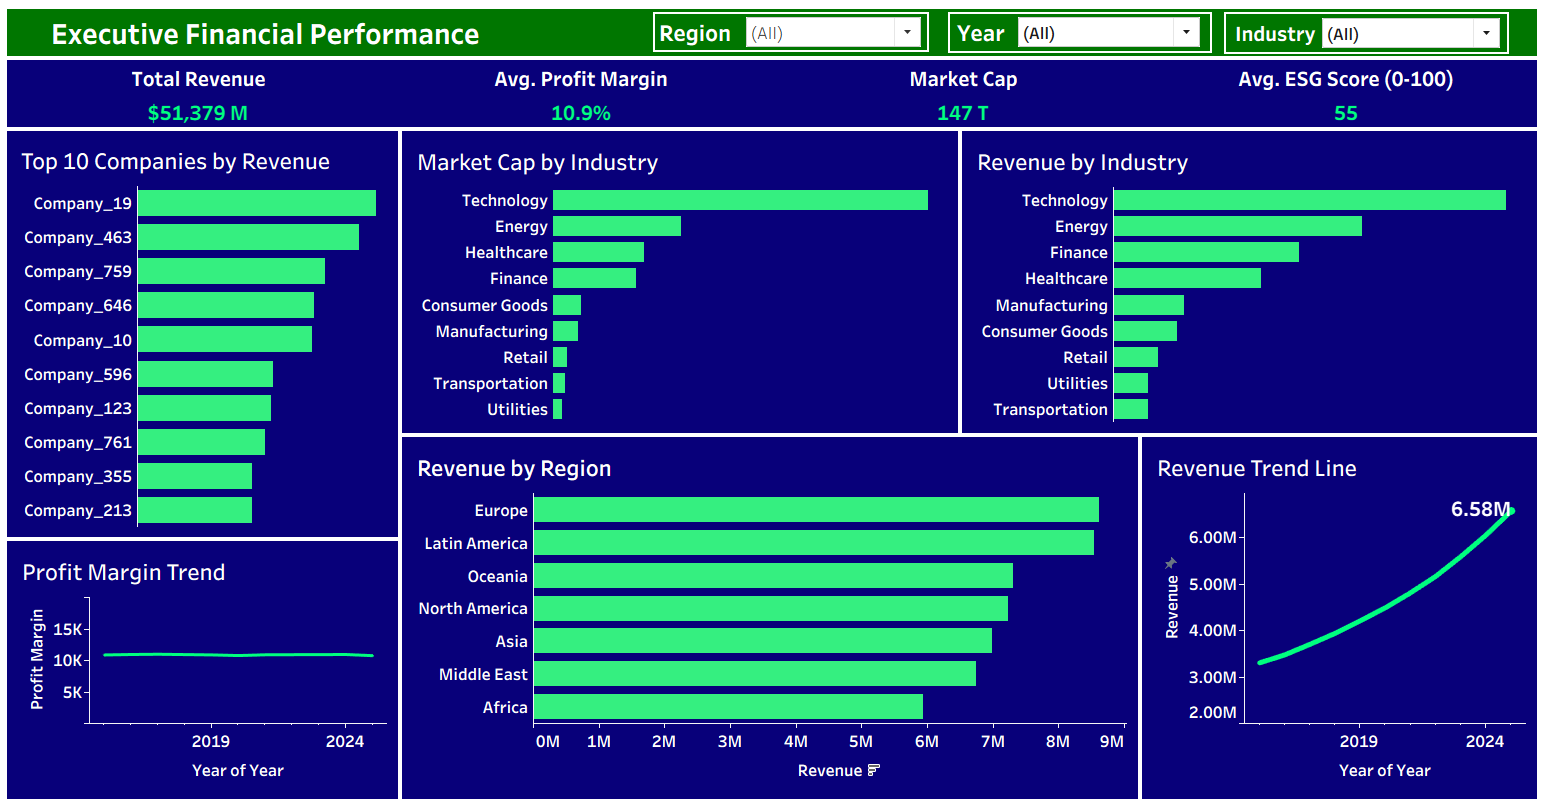

The page's visual inventory and layout, read from the dashboard file:
{"tool":"tableau","page":{"name":"Executive Financial Performance","canvas":[1000,1000],"units":"permille","ordinal":1},"visuals":[{"type":"text","box":[5.2,9.9,989.7,63.6]},{"type":"blank","box":[423.2,16.1,178.1,49.4]},{"type":"blank","box":[613.6,16.1,170.3,50.6]},{"type":"blank","box":[791.6,16.1,183.9,51.9]},{"type":"filter","title":"Market Cap by Industry","param":"[federated.1uj29181kbbx6w15t49ys11m4g1m].[none:Region:nk]","box":[481.3,19.8,116.8,43.2]},{"type":"filter","title":"Top 10 Companies by Revenue","param":"[federated.1uj29181kbbx6w15t49ys11m4g1m].[yr:Year:ok]","box":[656.8,21,121.3,40.7]},{"type":"filter","title":"Top 10 Companies by Revenue","param":"[federated.1uj29181kbbx6w15t49ys11m4g1m].[none:Industry:nk]","box":[852.9,21,118.7,43.2]},{"type":"text","box":[424.5,22.2,52.9,37]},{"type":"text","box":[616.8,22.2,39.4,37]},{"type":"text","box":[796.1,23.5,56.8,37]},{"type":"worksheet","title":"KPIs","mark":"Automatic","box":[5.2,73.4,989.7,87]},{"type":"worksheet","title":"Top 10 Companies by Revenue","mark":"Automatic","rows":["CompanyName"],"cols":["Revenue"],"box":[5.2,160.5,254.8,506.2]},{"type":"worksheet","title":"Market Cap by Industry","mark":"Automatic","rows":["Industry"],"cols":["MarketCap"],"box":[259.9,160.5,361.3,377.8]},{"type":"worksheet","title":"Revenue by Industry","mark":"Automatic","rows":["Industry"],"cols":["Revenue"],"box":[621.2,160.5,373.6,377.8]},{"type":"worksheet","title":"Revenue by Region","mark":"Automatic","rows":["Region"],"cols":["Revenue"],"box":[259.9,538.2,477.5,451.9]},{"type":"worksheet","title":"Revenue Trend Line","mark":"Line","rows":["Revenue"],"cols":["Year"],"box":[737.4,538.2,257.4,451.9]},{"type":"worksheet","title":"Profit Margin Trend","mark":"Automatic","rows":["ProfitMargin"],"cols":["Year"],"box":[5.2,666.7,254.8,323.5]}]}

Visuals, with their boxes on the dashboard's canvas, which has no fixed pixel size, in thousandths of its width and height (x1, y1, x2, y2). These are canvas units, not pixel positions in the 1545x805 screenshot, which may show the page scaled, cropped or inside an application window:
text: rect(5, 10, 995, 74)
blank: rect(423, 16, 601, 66)
blank: rect(614, 16, 784, 67)
blank: rect(792, 16, 976, 68)
"Market Cap by Industry" filter: rect(481, 20, 598, 63)
"Top 10 Companies by Revenue" filter: rect(657, 21, 778, 62)
"Top 10 Companies by Revenue" filter: rect(853, 21, 972, 64)
text: rect(424, 22, 477, 59)
text: rect(617, 22, 656, 59)
text: rect(796, 24, 853, 60)
"KPIs" worksheet: rect(5, 73, 995, 160)
"Top 10 Companies by Revenue" worksheet: rect(5, 160, 260, 667)
"Market Cap by Industry" worksheet: rect(260, 160, 621, 538)
"Revenue by Industry" worksheet: rect(621, 160, 995, 538)
"Revenue by Region" worksheet: rect(260, 538, 737, 990)
"Revenue Trend Line" worksheet (Line marks): rect(737, 538, 995, 990)
"Profit Margin Trend" worksheet: rect(5, 667, 260, 990)
